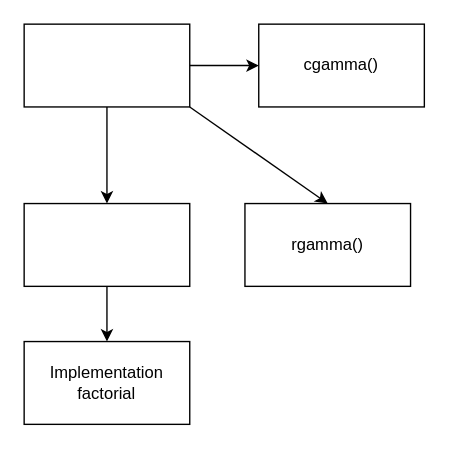
Image size: 449x449. Some labels were removed from this diagram. Here are the shapes that lost their labels. From the top down, the centre of each, then its label:
At (106,65): "Gamma".
At (106,244): "ngamma()".
